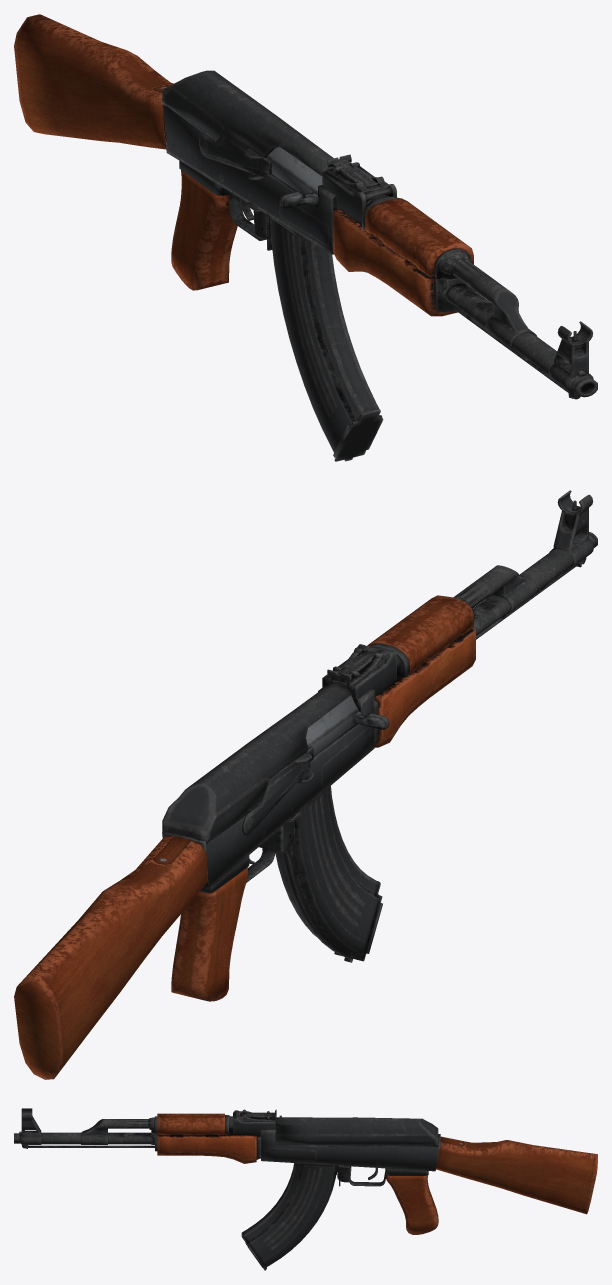
The picture shows the model from 3 angles, top to bottom: view 1: azimuth 30°, elevation 25°; view 2: azimuth 150°, elevation 25°; view 3: azimuth 270°, elevation 25°; orthographic projection. The views are drawn at different scales.
Parts seen in each view (by area): view 1: ak47; view 2: ak47; view 3: ak47.
Part boxes in pixels (bbox=[...]): ak47: bbox=[14, 14, 597, 461]; ak47: bbox=[14, 490, 597, 1079]; ak47: bbox=[14, 1108, 597, 1270].
Bounding box in the file's own units: 0.0705 × 0.2607 × 0.8719.
1 material, 1 textured.
